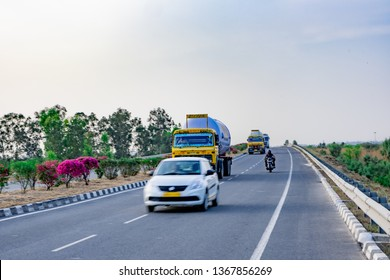bike: (265, 150, 275, 174)
car: (145, 158, 218, 213)
truck: (174, 116, 231, 181), (247, 135, 264, 156), (262, 133, 270, 150)
